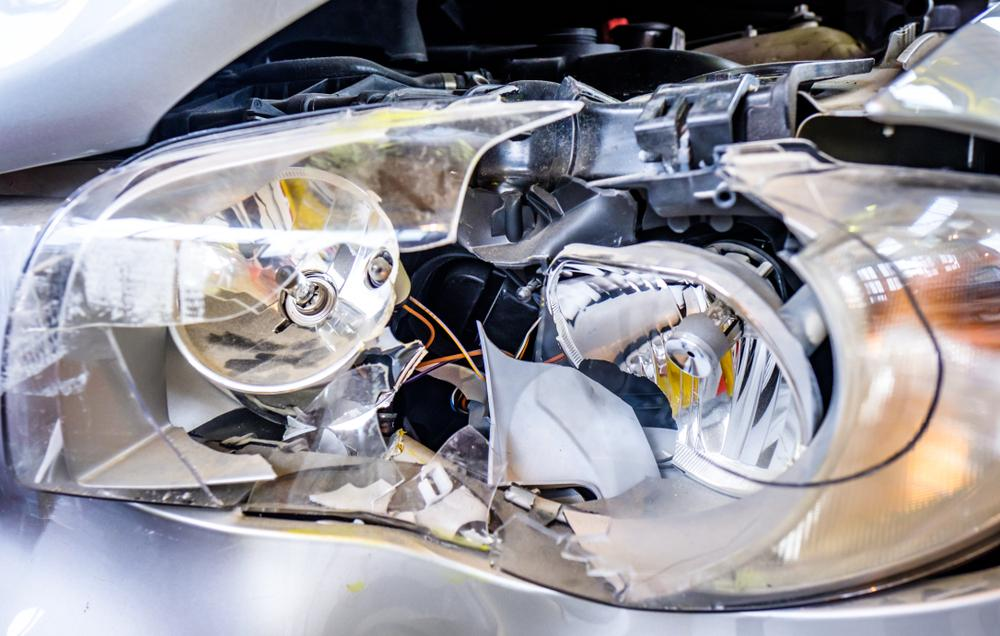lamp broken: (0, 98, 1000, 611)
